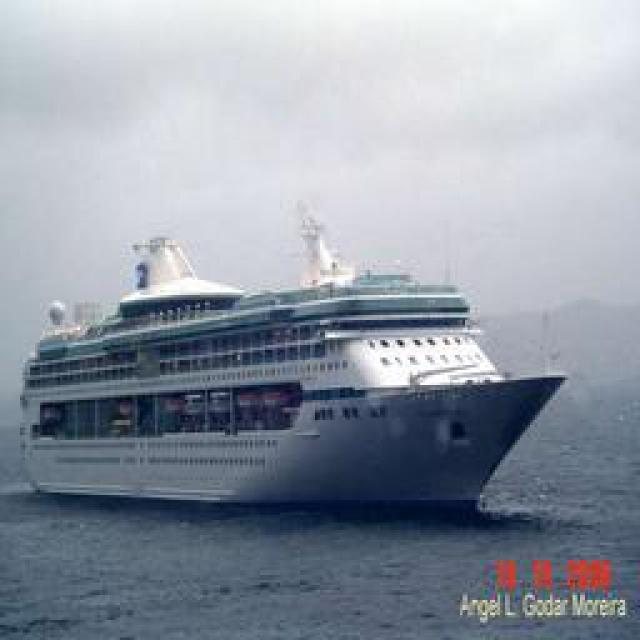Ship: (19, 220, 582, 513)
